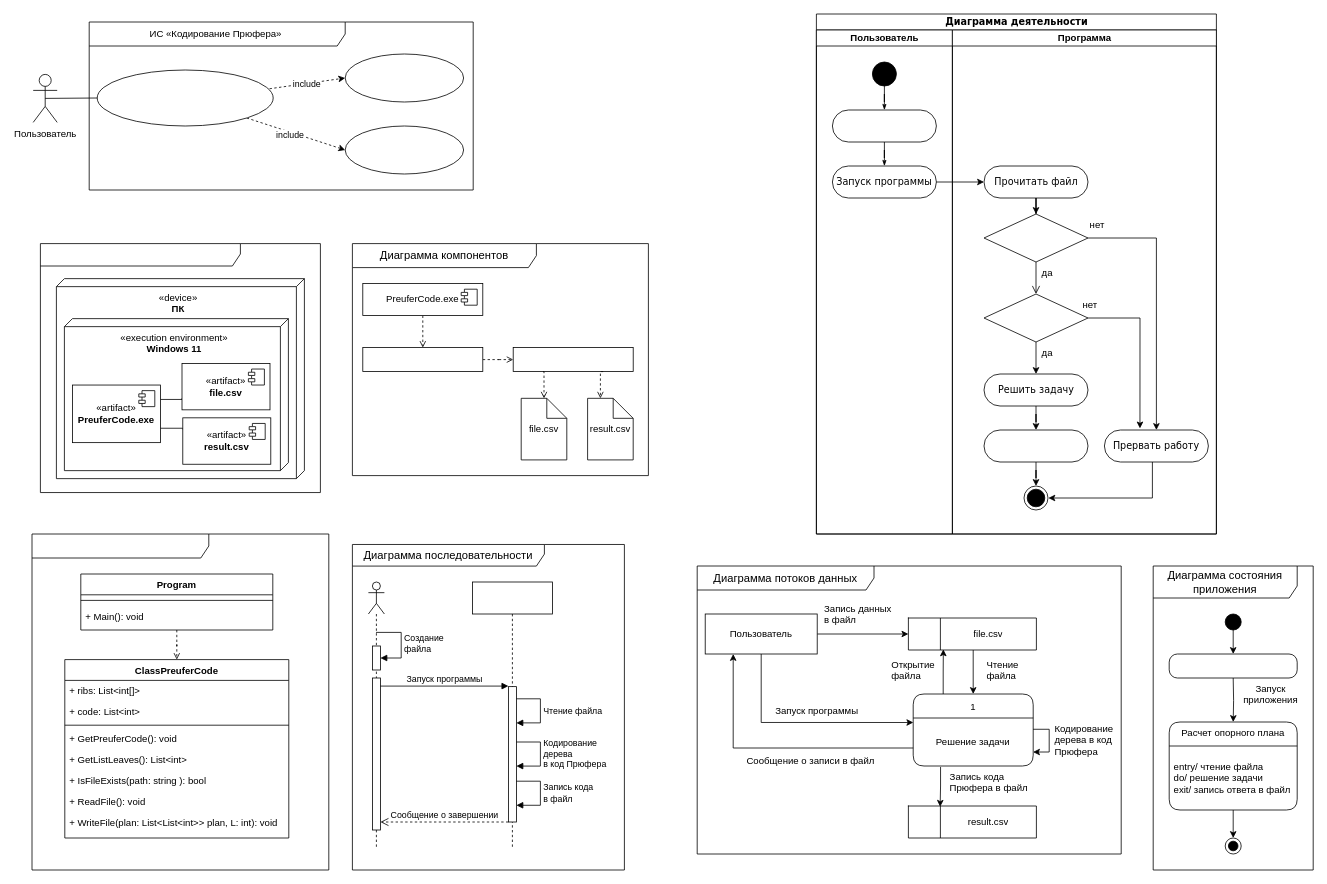
Some shapes in this 1327 by 884 pixel diagram are drawn without their labels. The shapes that lost their labels are listed below. From the top down, each one's centre as x and y in pixels, then its label:
At point 184,97: "Запустить программу, преобразующую дерево в код Прюфера".
At point 404,77: "Создать file.csv с ребрами".
At point 884,125: "Создание файла с данными".
At point 404,149: "Получить код Прюфера в файл result.csv".
At point 1035,237: "Файл существует".
At point 1035,317: "Данные корректны".
At point 180,368: "Диаграмма развертывания".
At point 422,359: "class Program".
At point 572,359: "class ClassPreuferCode".
At point 1035,445: "Записать код в файл".
At point 1232,665: "Выключен".
At point 180,701: "Диаграмма класов".
At point 512,714: ":Приложение".
